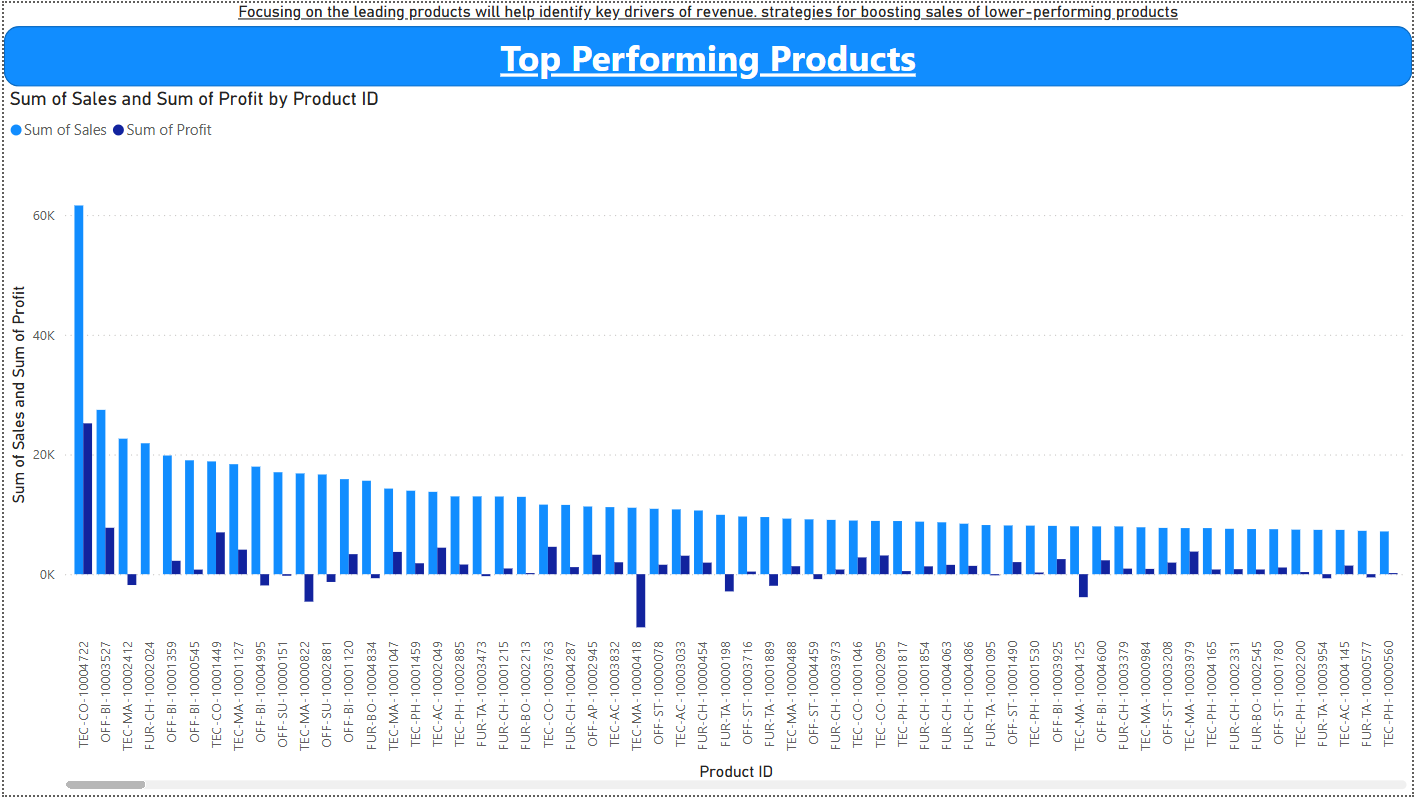

Layout of this report page (visuals, bound fields, positions):
{"tool":"powerbi","page":{"name":"Products Performance","canvas":[1280,720],"ordinal":1},"visuals":[{"type":"shape","title":"Focusing on the leading products will help identify key drivers of revenue. strategies for boosting sales of lower-performing products","box":[0,0,1280,76.4],"z":0},{"type":"clusteredColumnChart","fields":{"Category":["Orders.Product ID"],"Y":["Sum(Orders.Sales)","Sum(Orders.Profit)"]},"box":[0,76.4,1280,643.6],"z":1000}]}

Visuals, with their boxes in screenshot pixels (x1, y1, x2, y2), scaled from the page's 1280x720 canvas onto the 1415x799 screenshot:
"Focusing on the leading products will help identify key drivers of revenue. strategies for boosting sales of lower-performing products" shape: [left=0, top=0, right=1414, bottom=85]
clusteredColumnChart - Orders.Product ID x Sum(Orders.Sales): [left=0, top=85, right=1414, bottom=798]
